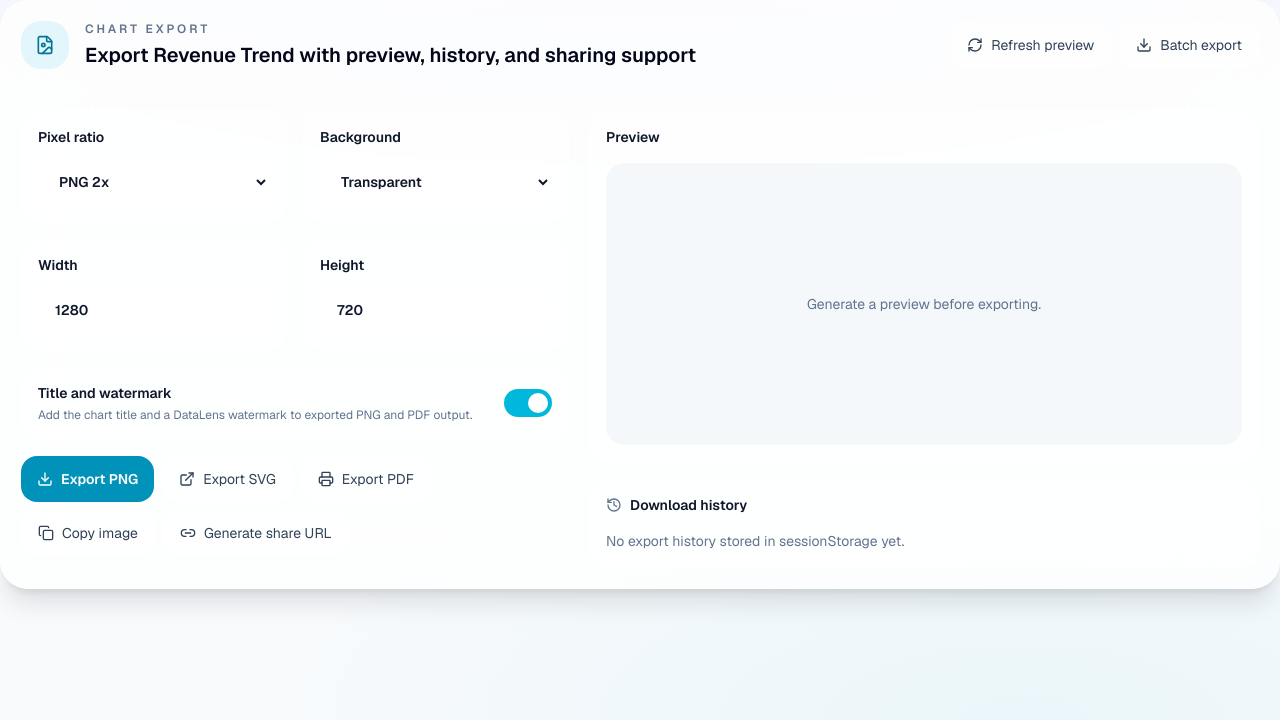
Scenario: ChartExport › shows a notice when preview is requested without a chart instance
Click the button "Refresh preview".
click(1031, 45)  # box x1=950 y1=22 x2=1111 y2=68
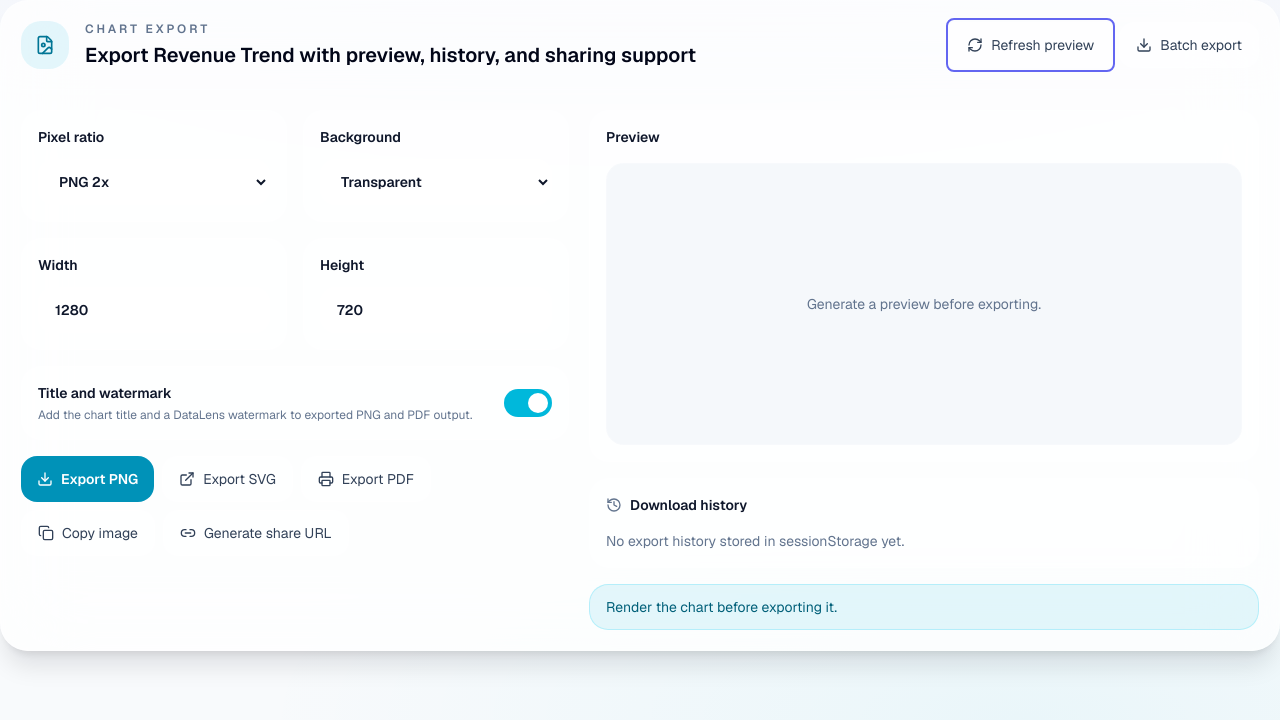
Expected: the text "Render the chart before exporting it." is shown, x1=589 y1=584 x2=1259 y2=630
